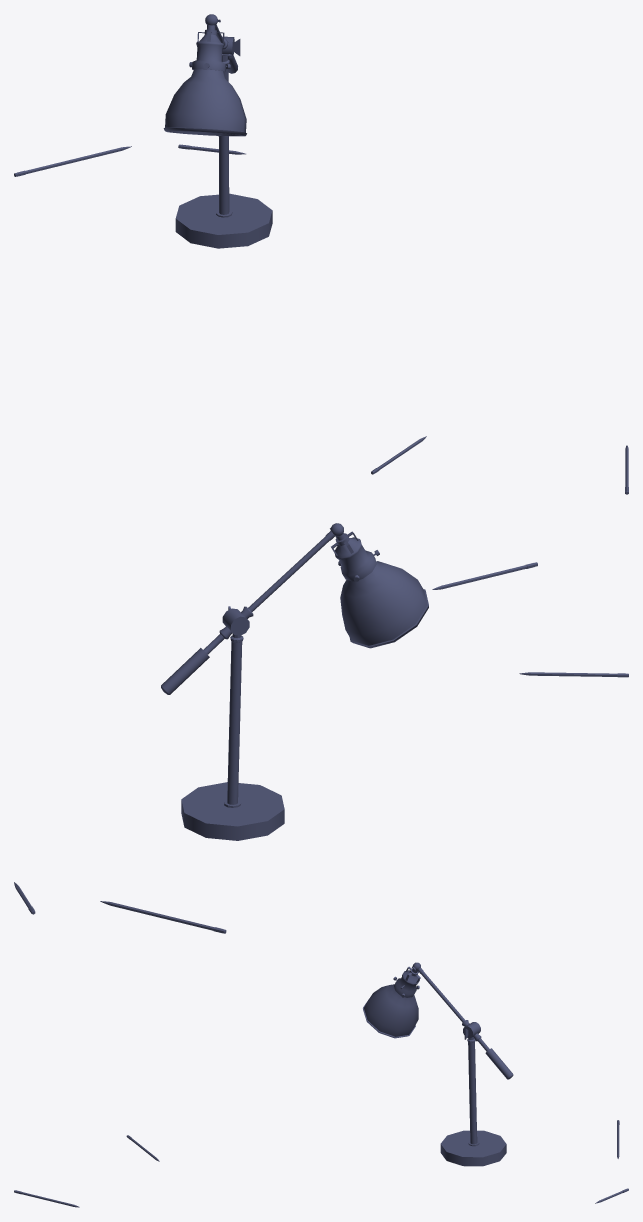
File: DeskItems_low.fbx
3 views of the same model, one above another, from view 1: azimuth 30°, elevation 25°; view 2: azimuth 150°, elevation 25°; view 3: azimuth 270°, elevation 25° (orthographic). The views are drawn at different scales.
Visible parts, largest first — view 1: Lamp_low; view 2: Lamp_low; view 3: Lamp_low.
Boxes of the visible parts, x1=… form: Lamp_low: x1=163, y1=14, x2=272, y2=248; Lamp_low: x1=161, y1=523, x2=428, y2=840; Lamp_low: x1=363, y1=962, x2=513, y2=1166.
Size of the model in its own units: 0.4831 by 0.5802 by 1.68.
